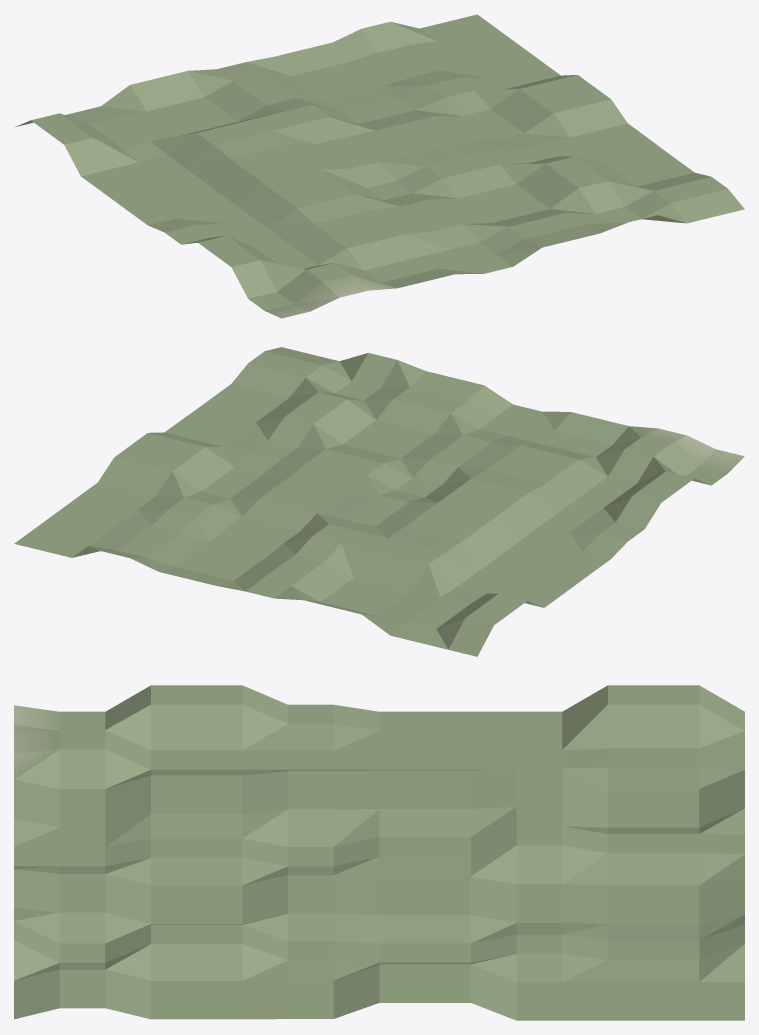
The picture shows the model from 3 angles, top to bottom: view 1: azimuth 30°, elevation 25°; view 2: azimuth 150°, elevation 25°; view 3: azimuth 270°, elevation 25°; orthographic projection. The views are drawn at different scales.
Bounding box in the file's own units: 32 × 1.28 × 32.
